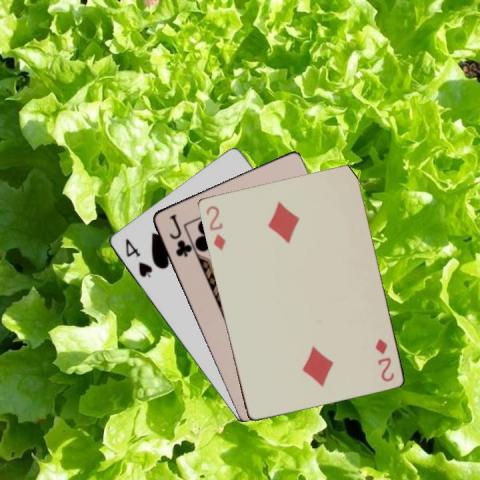2d: (202, 202, 227, 251), (372, 335, 395, 383)
4s: (122, 236, 154, 280)
Jc: (165, 211, 192, 259)
